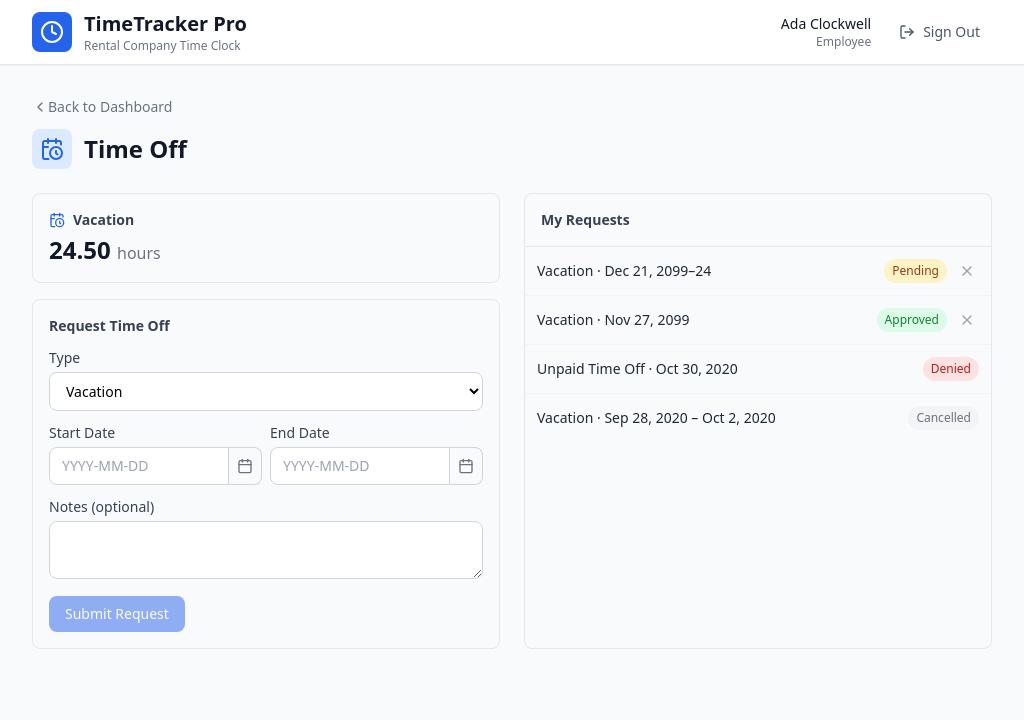
Test: Time Off page › returns to the dashboard
Expected: the text "24.50" is shown, [49,233,111,266]
Click the link "Back to Dashboard": (102, 107) [32,97,172,117]
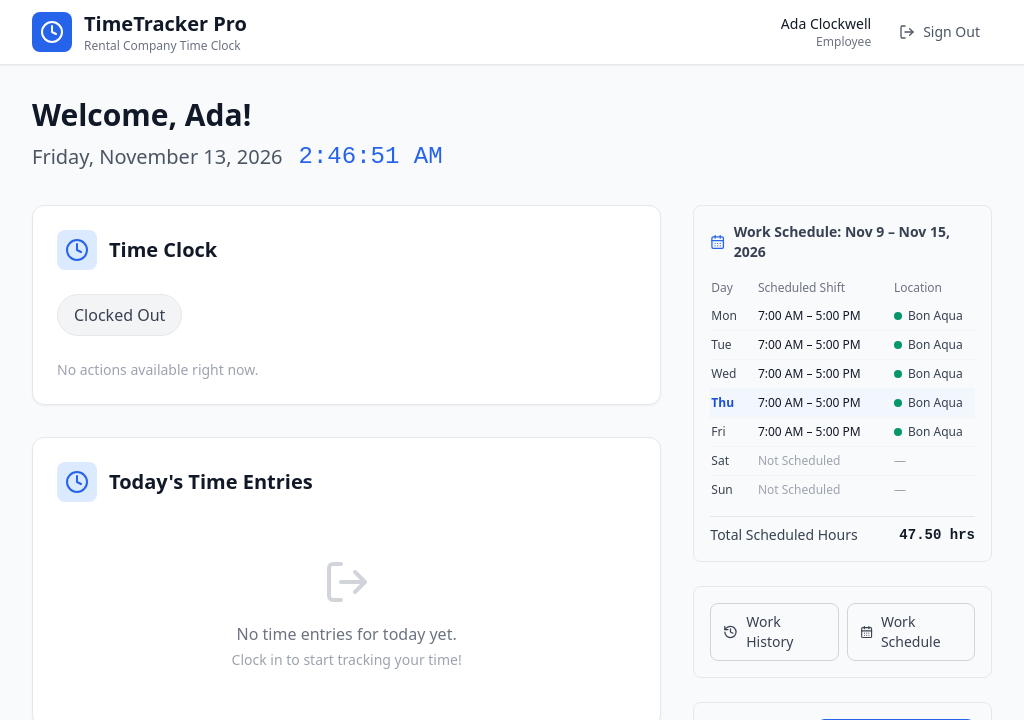
Now the text "Work Schedule: Nov 9 – Nov 15, 2026" is shown, box [734,222,975,262]
